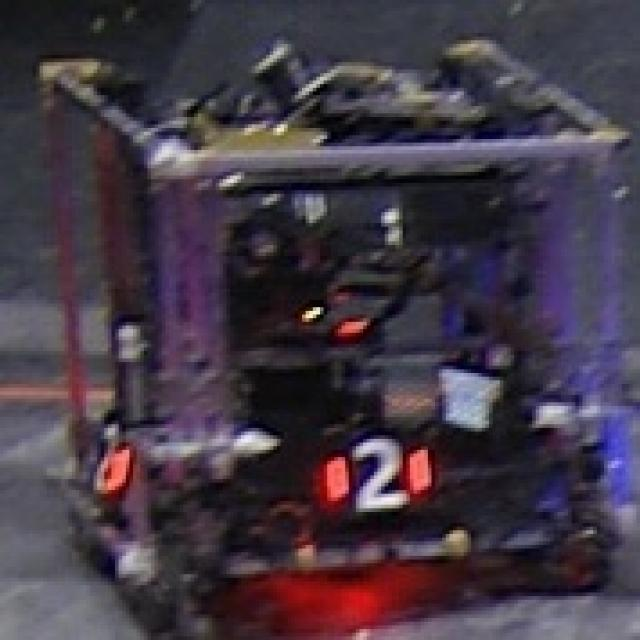R2: (320, 428, 435, 516), (72, 406, 144, 501)
